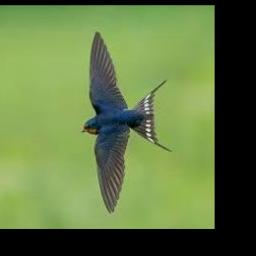Swallow: (81, 31, 172, 214)
